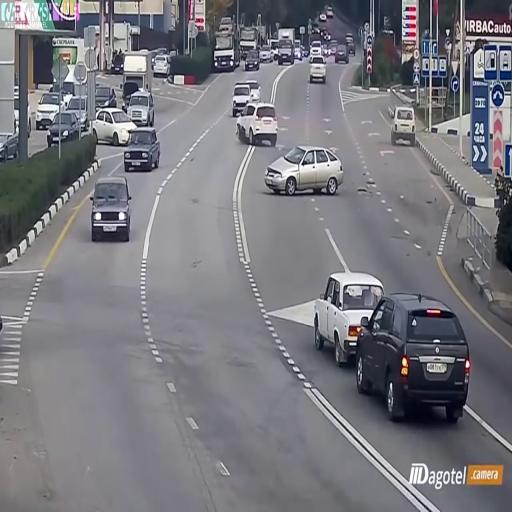小汽车: (356, 289, 472, 413), (314, 272, 383, 354), (262, 148, 344, 193), (89, 176, 133, 245), (123, 122, 163, 173), (236, 102, 282, 145), (90, 104, 135, 145), (46, 108, 79, 152), (128, 87, 158, 130), (32, 87, 61, 130), (386, 105, 418, 143), (212, 28, 239, 73), (274, 26, 297, 66), (230, 85, 253, 121), (152, 52, 174, 82), (333, 38, 353, 68), (308, 55, 328, 84), (242, 47, 264, 72)
